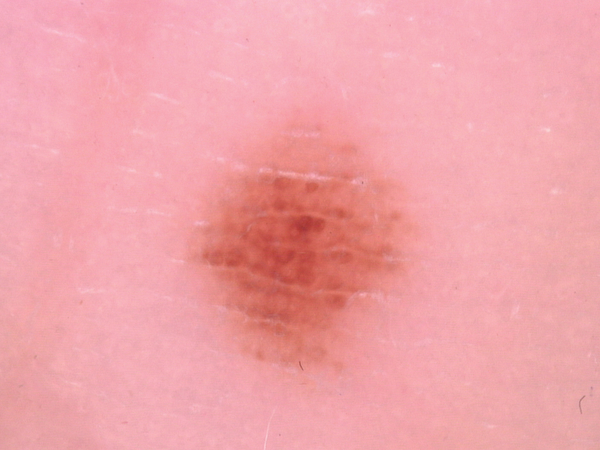Detected Lesion: (186, 117, 409, 375)
